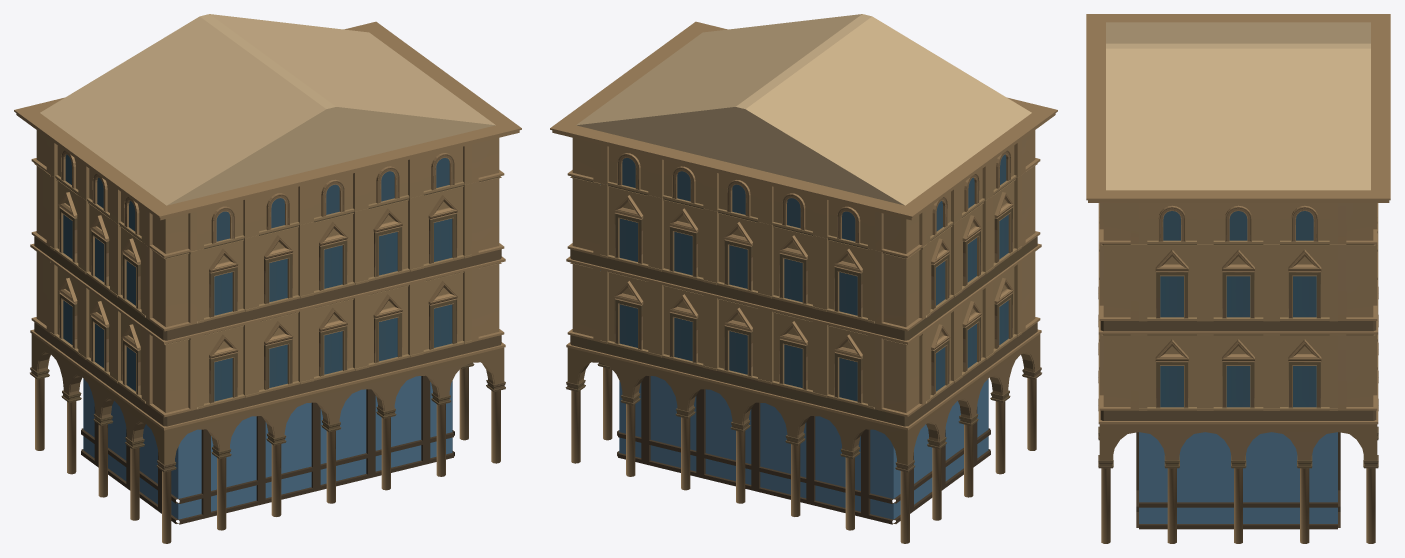
Rendered from v2-buildings-arched-03.glb.
The picture shows the model from 3 angles, left to right: view 1: azimuth 30°, elevation 25°; view 2: azimuth 150°, elevation 25°; view 3: azimuth 270°, elevation 25°; orthographic projection. The views are drawn at different scales.
Visible parts, largest first — view 1: arched-building-03; view 2: arched-building-03; view 3: arched-building-03.
Boxes of the visible parts, bbox=[...] form: arched-building-03: bbox=[14, 14, 521, 543]; arched-building-03: bbox=[550, 14, 1057, 543]; arched-building-03: bbox=[1086, 14, 1390, 543].
Size of the model in its own units: 13.19 by 13.7 by 9.19.
1 material, 1 textured.
